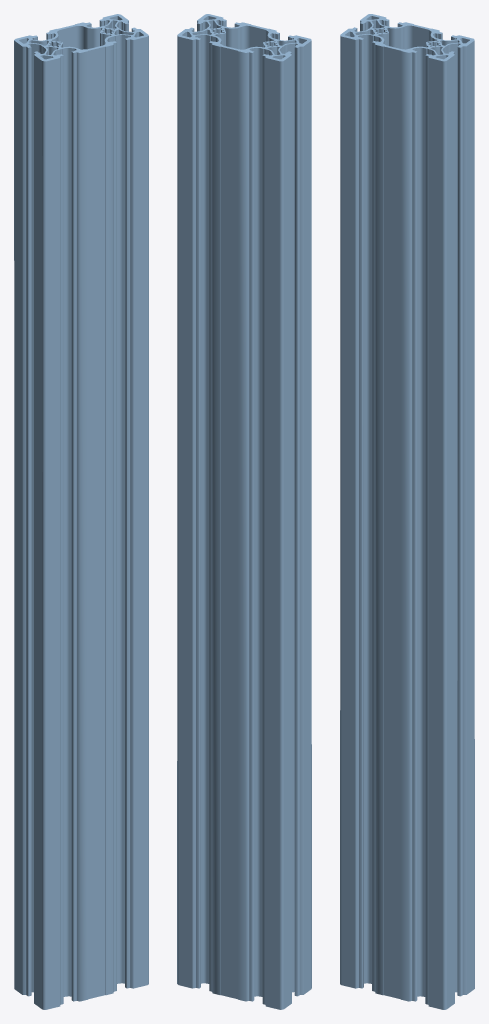
File: ST_EXT_002_0765.gltf
3 renders of one model, left to right at view 1: azimuth 30°, elevation 25°; view 2: azimuth 150°, elevation 25°; view 3: azimuth 330°, elevation 25°, orthographic.
Bounding box in the file's own units: 0.09 × 0.765 × 0.045.
